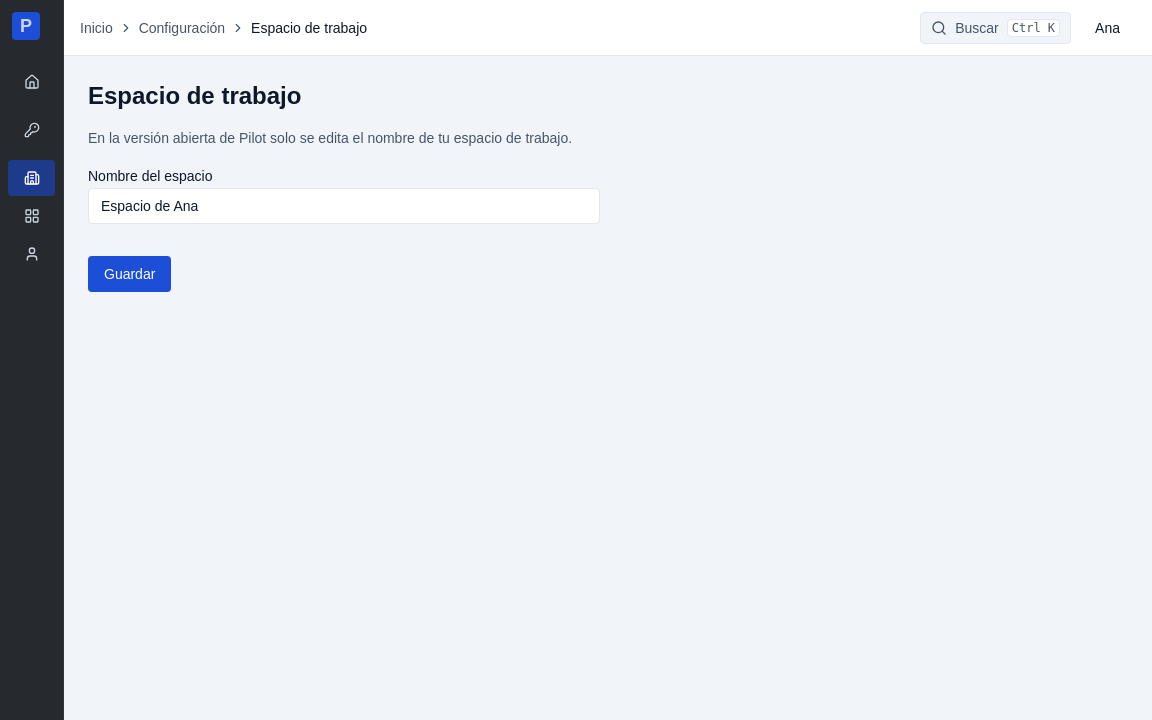
Test case: pantalla Espacio de trabajo (ADR-032) › el PATCH lleva If-Match con el ETag del GET y al guardar recarga /me
Replace the text in the field labelled "Nombre del espacio" with "  Taller de Ana  " at (344, 206), box x1=88 y1=188 x2=600 y2=224
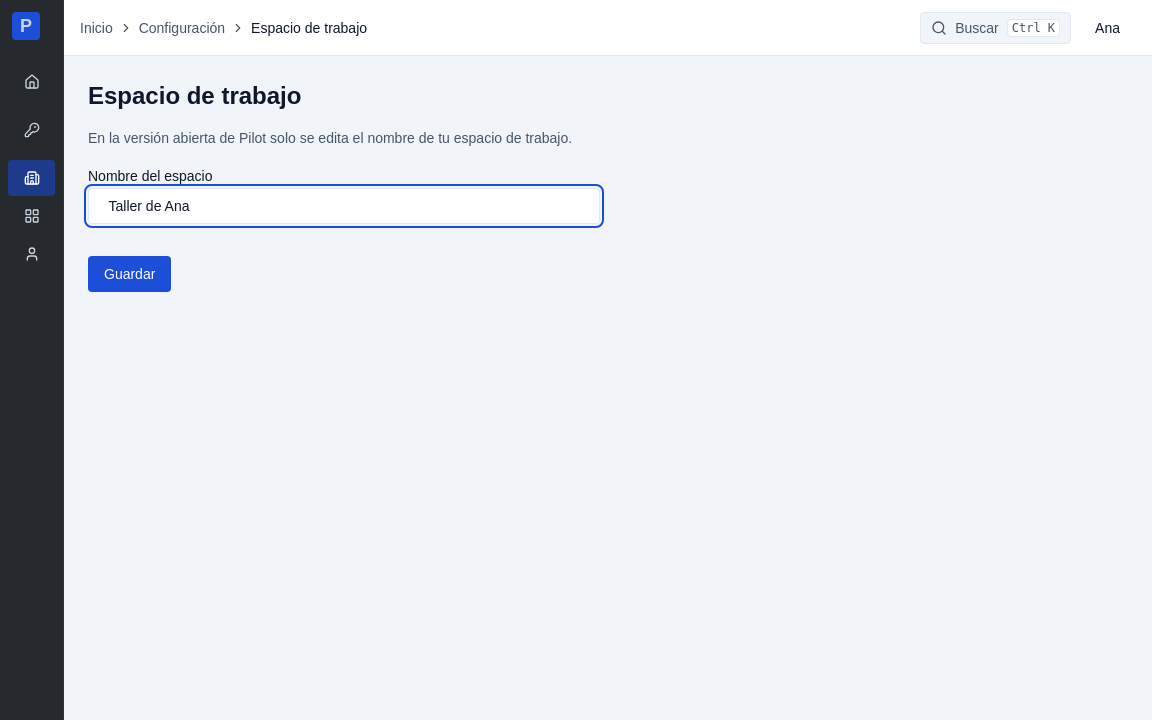
Click the button "Guardar" at (130, 274), box x1=88 y1=256 x2=171 y2=292
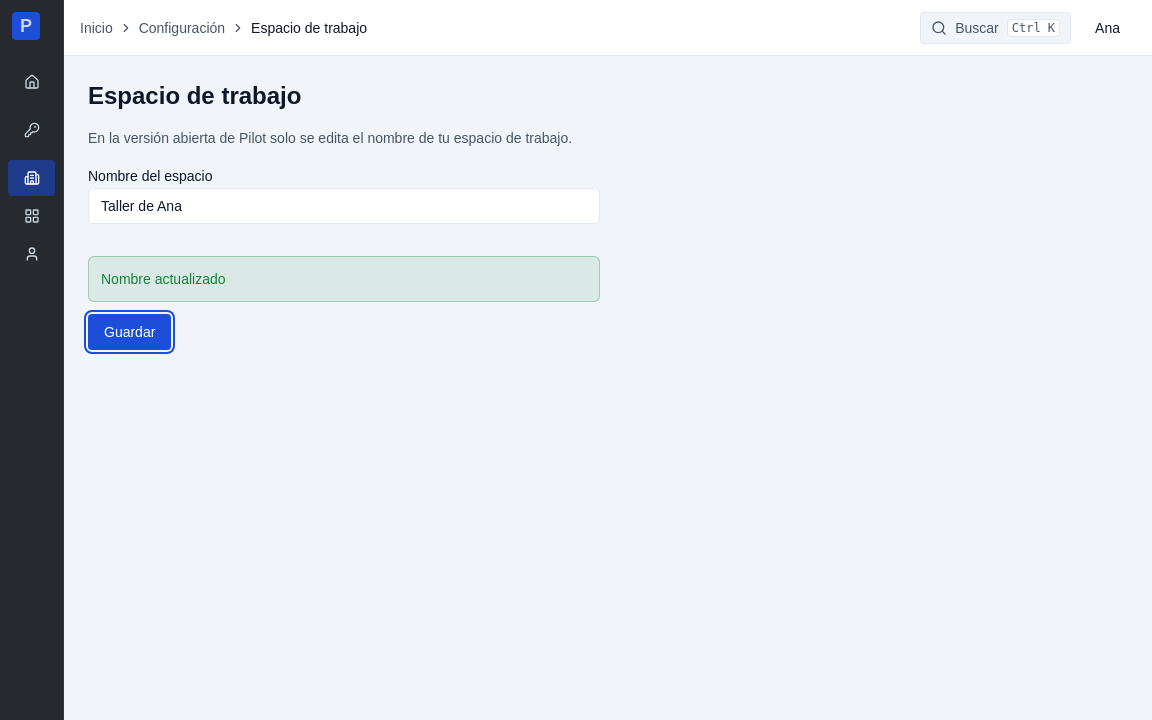
Expected: the text "Nombre actualizado" is shown, x1=88 y1=256 x2=600 y2=302
